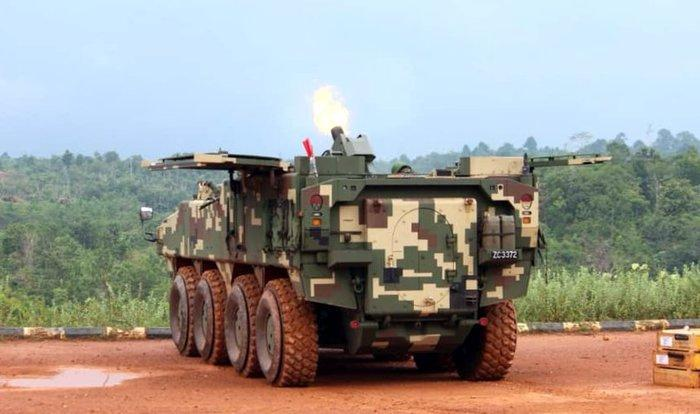MIL_IFV: (133, 123, 615, 386)
